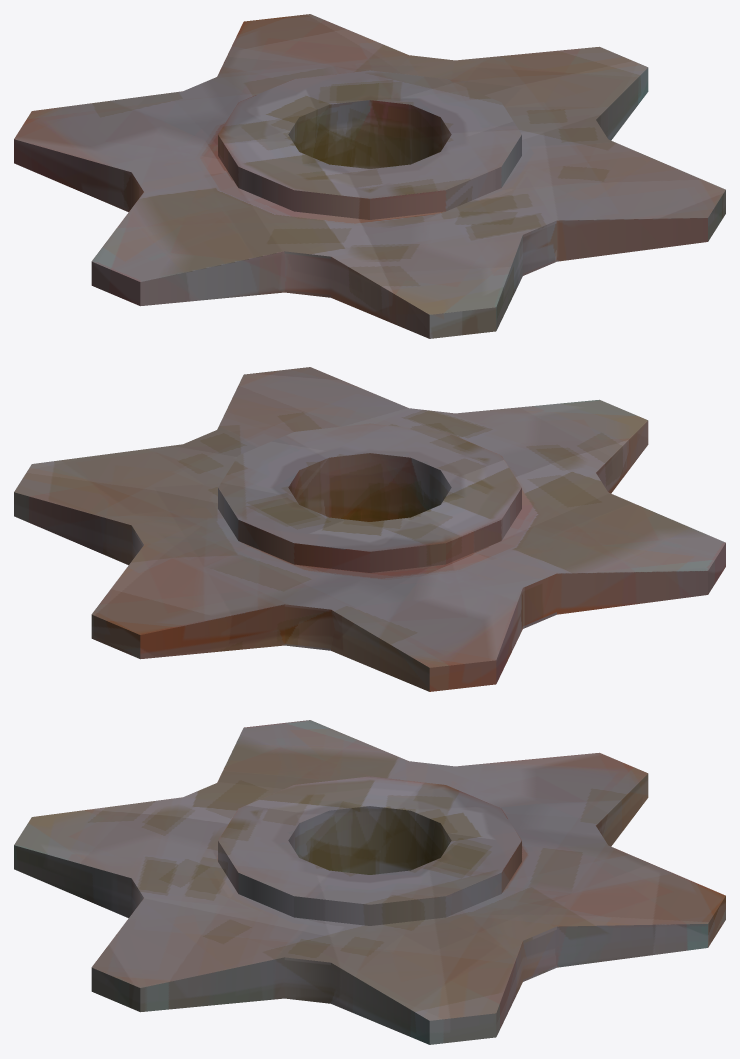
File: Cog.fbx
3 views of the same model, one above another, from view 1: azimuth 30°, elevation 25°; view 2: azimuth 150°, elevation 25°; view 3: azimuth 270°, elevation 25° (orthographic).
Visible parts, largest first — view 1: Cog; view 2: Cog; view 3: Cog.
Part boxes in pixels (<box>): Cog: <box>14,14,725,338</box>; Cog: <box>14,367,725,691</box>; Cog: <box>14,720,725,1044</box>.
Bounding box in the file's own units: 248 × 32.14 × 248.
